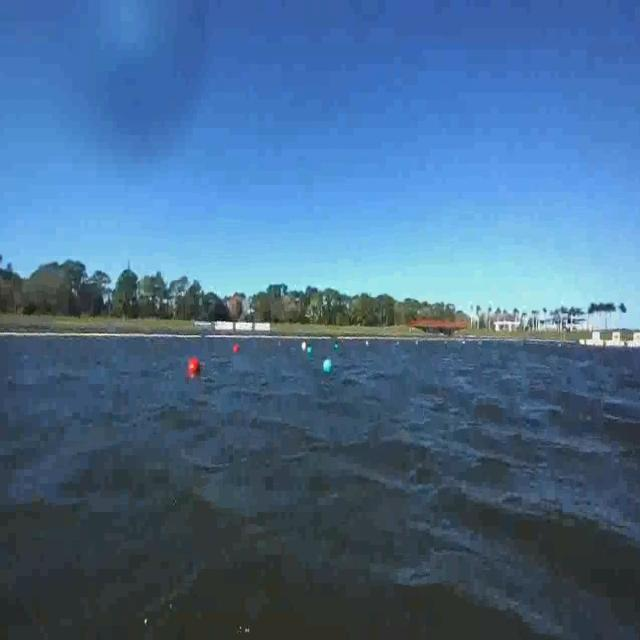green-buoy: (326, 358, 336, 373), (306, 344, 312, 358)
red-buoy: (187, 358, 201, 375), (235, 344, 241, 354)
